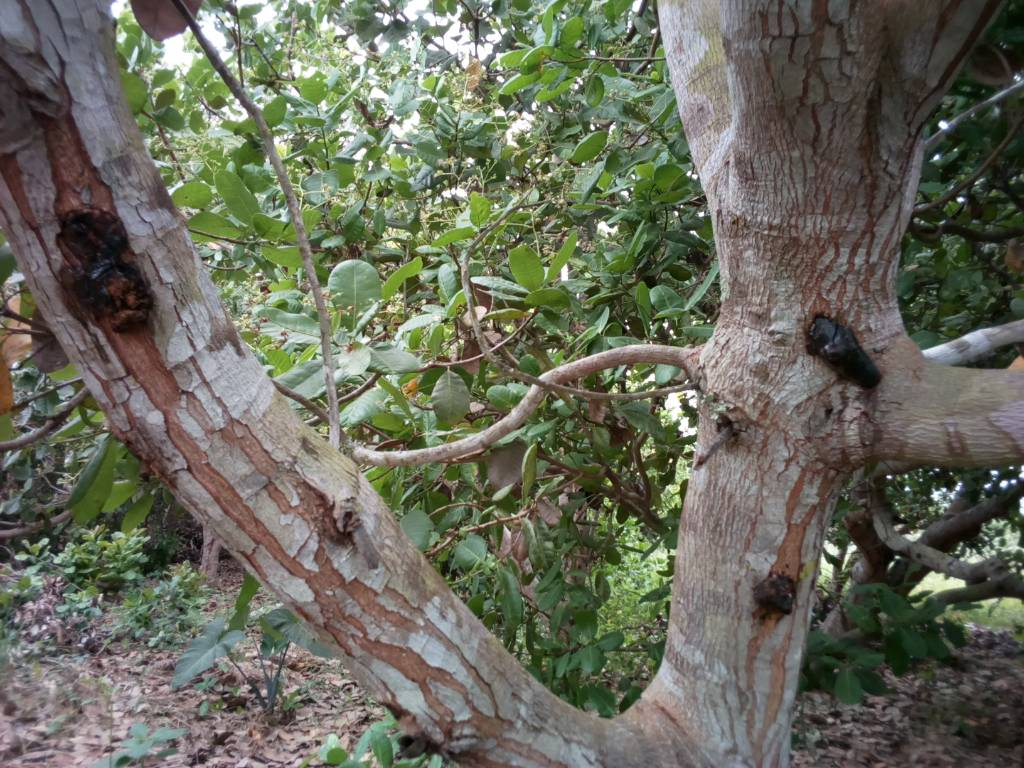Mecocorynus longiceps: (37, 184, 195, 380), (767, 284, 918, 411), (734, 562, 823, 642)
